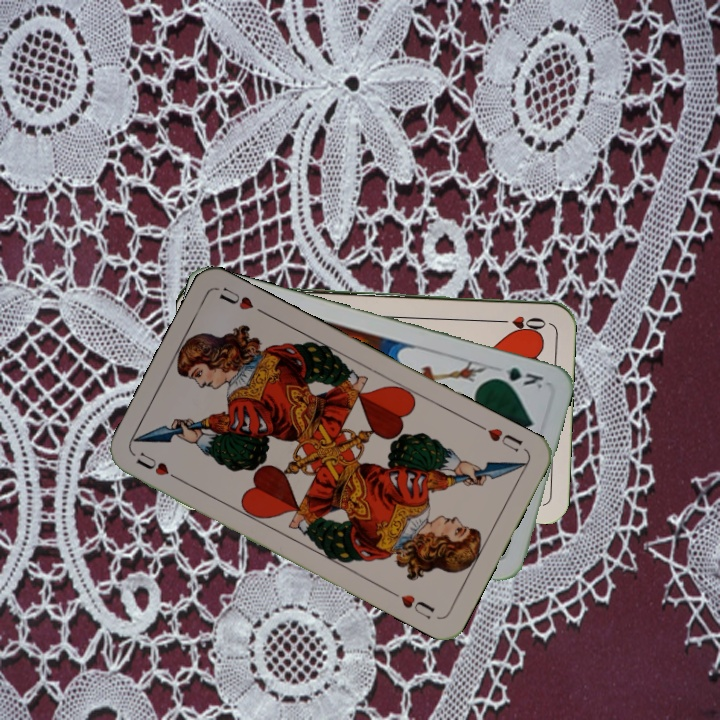GK: (488, 363, 546, 391)
HO: (491, 311, 549, 329)
HU: (132, 448, 184, 485), (473, 420, 525, 455)
